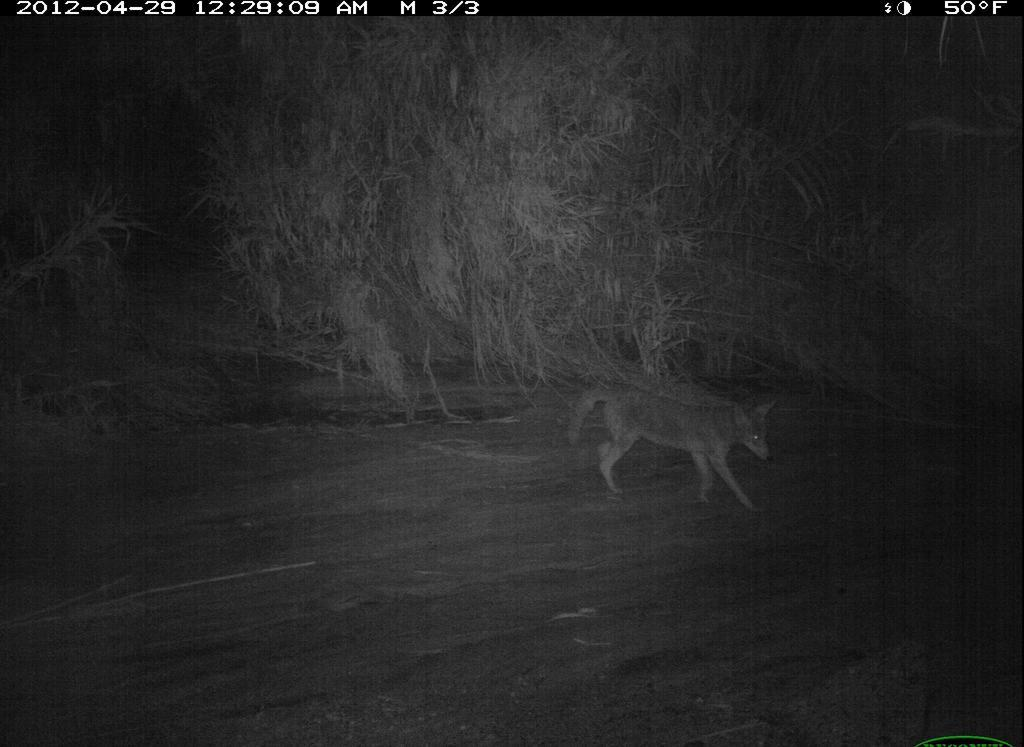coyote: (561, 381, 784, 521)
